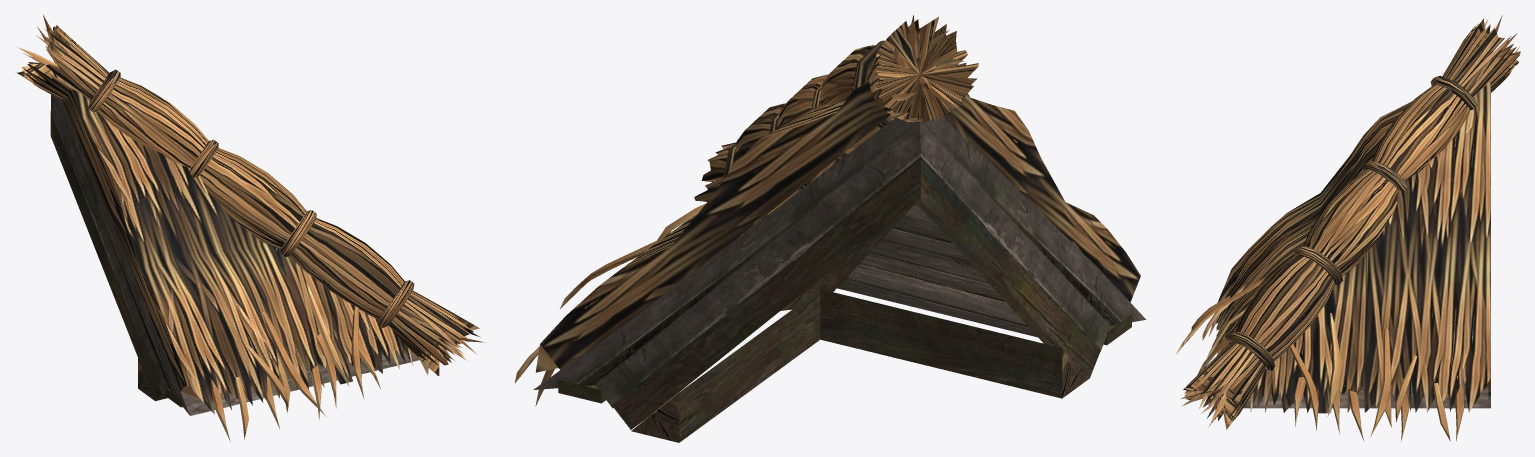
3 renders of one model, left to right at view 1: azimuth 30°, elevation 25°; view 2: azimuth 150°, elevation 25°; view 3: azimuth 270°, elevation 25°, orthographic. The views are drawn at different scales.
Parts seen in each view (by area): view 1: SM_BB_T1_Extended_Roof_Med_Hip_LOD0; view 2: SM_BB_T1_Extended_Roof_Med_Hip_LOD0; view 3: SM_BB_T1_Extended_Roof_Med_Hip_LOD0.
Boxes of the visible parts, x1,y1,x2,y2 form: SM_BB_T1_Extended_Roof_Med_Hip_LOD0: (15,15,485,441); SM_BB_T1_Extended_Roof_Med_Hip_LOD0: (514,15,1146,442); SM_BB_T1_Extended_Roof_Med_Hip_LOD0: (1176,15,1520,441).
Bounding box in the file's own units: 2.67 × 2.59 × 2.63.
3 materials, 3 textured.
